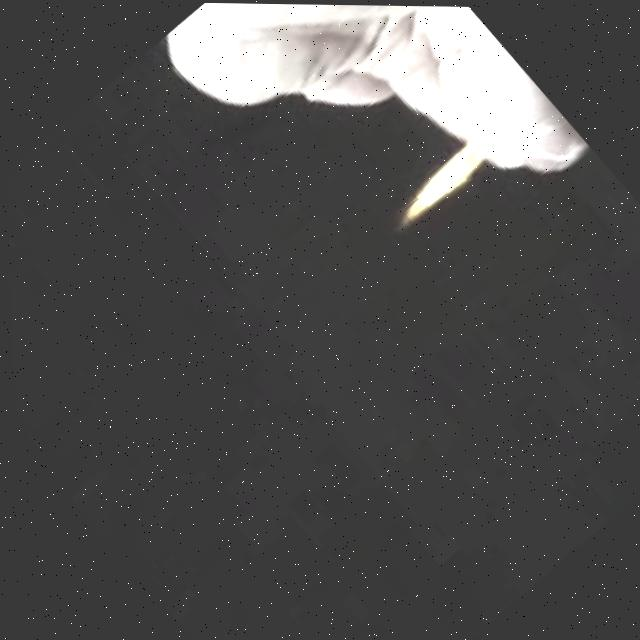Fire: (370, 115, 518, 248)
